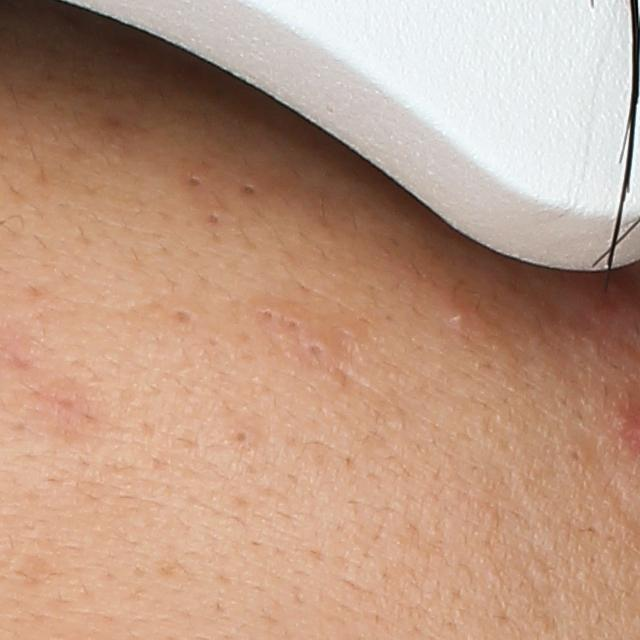comedo: (305, 340, 330, 361), (231, 429, 255, 449), (238, 180, 261, 199), (565, 447, 586, 466), (173, 307, 195, 325), (188, 174, 205, 193), (259, 307, 278, 322), (204, 214, 224, 228), (285, 317, 302, 331)
